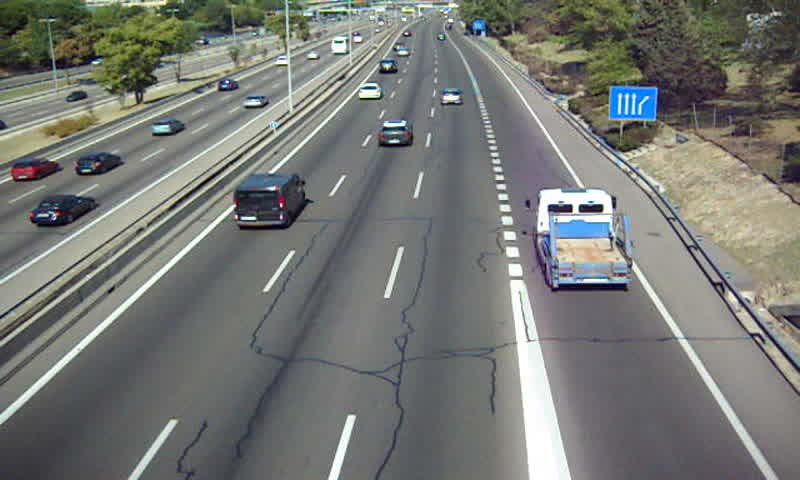car: (379, 119, 411, 148), (440, 87, 464, 107), (358, 82, 383, 98), (378, 58, 396, 74)
small-truck: (535, 190, 634, 289)
van: (232, 172, 306, 229)
